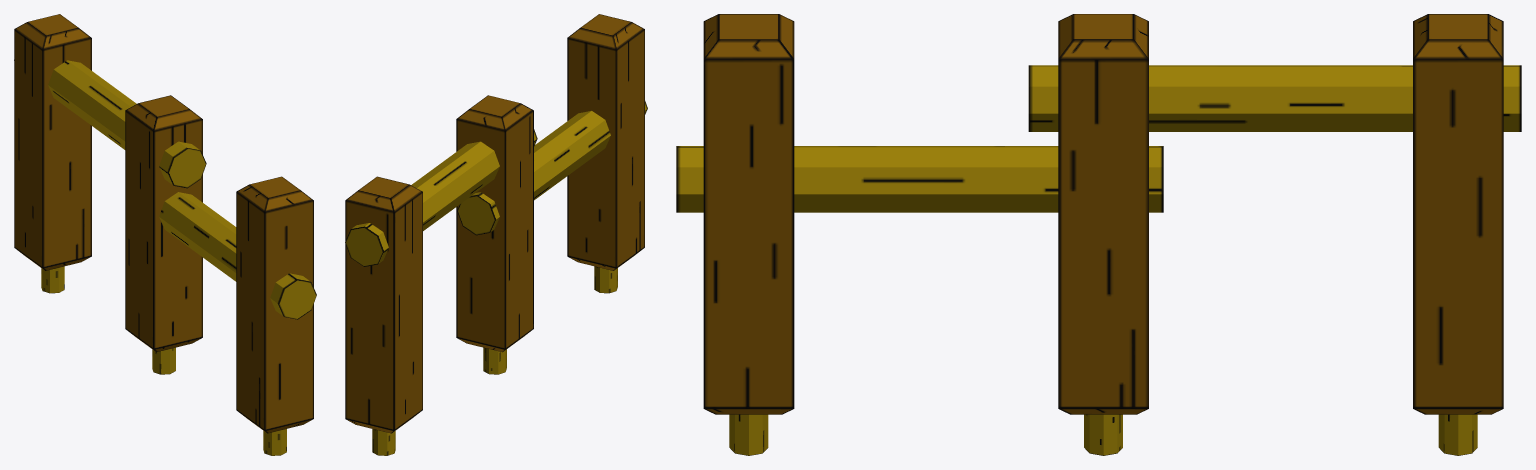
Rendered from Fence1_3.glb.
3 views of the same model, side by side, from view 1: azimuth 30°, elevation 25°; view 2: azimuth 150°, elevation 25°; view 3: azimuth 270°, elevation 25° (orthographic). The views are drawn at different scales.
Parts seen in each view (by area): view 1: Fence1_3; view 2: Fence1_3; view 3: Fence1_3.
Part boxes in pixels (box(x1,y1,x2,y2)): Fence1_3: box(14, 14, 316, 455); Fence1_3: box(345, 14, 647, 455); Fence1_3: box(676, 14, 1521, 455).
Bounding box in the file's own units: 0.2561 × 1.31 × 2.38.
Materials: 1 (1 with a texture image).
